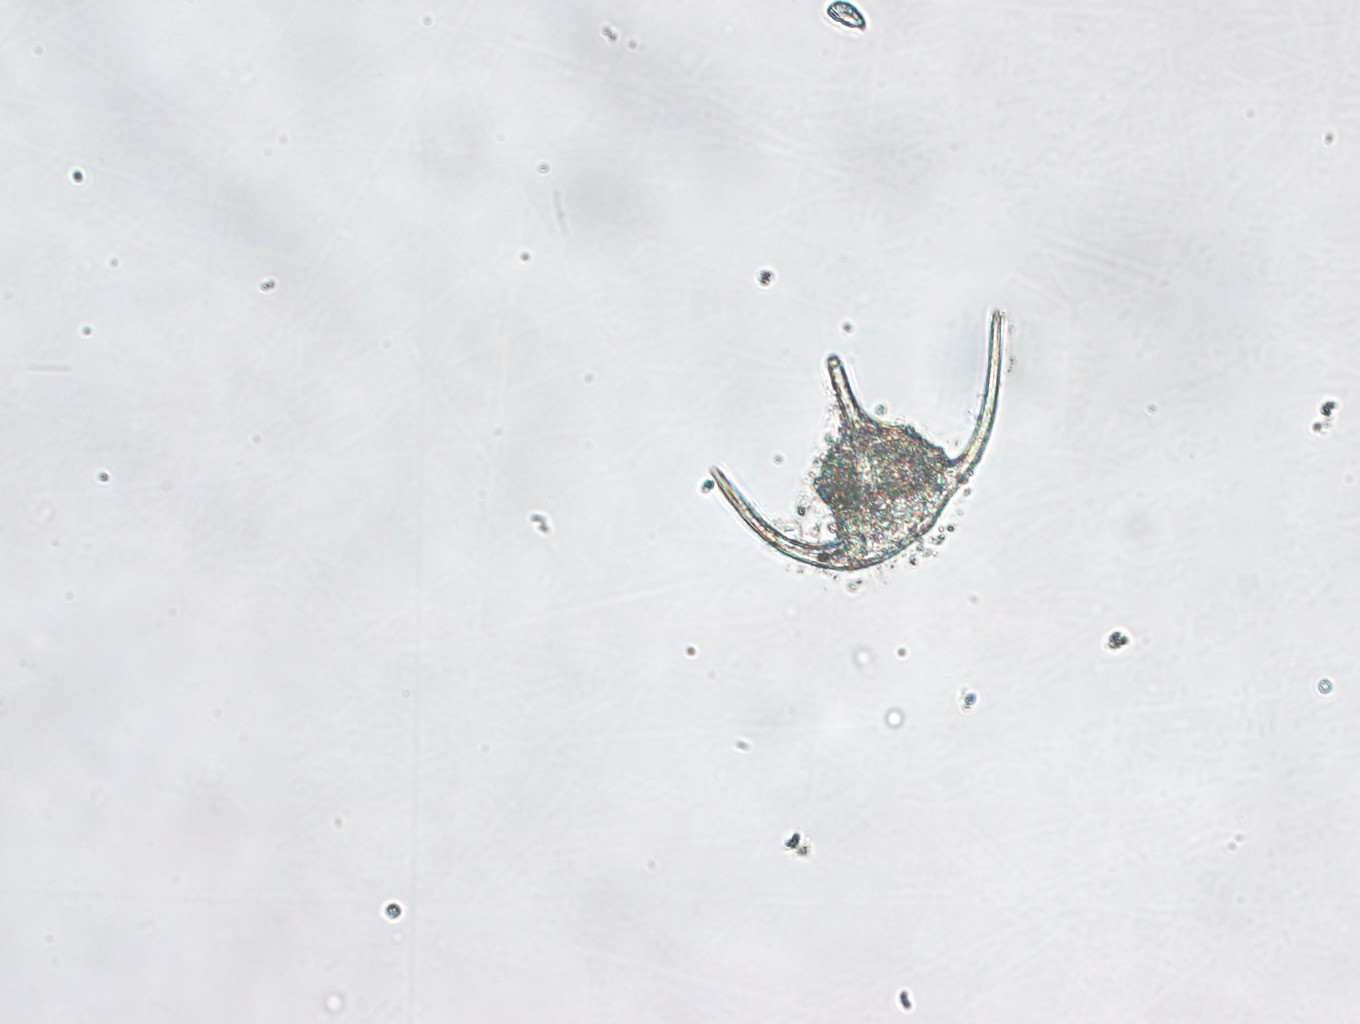ceratium tripos: (708, 305, 1003, 573)
